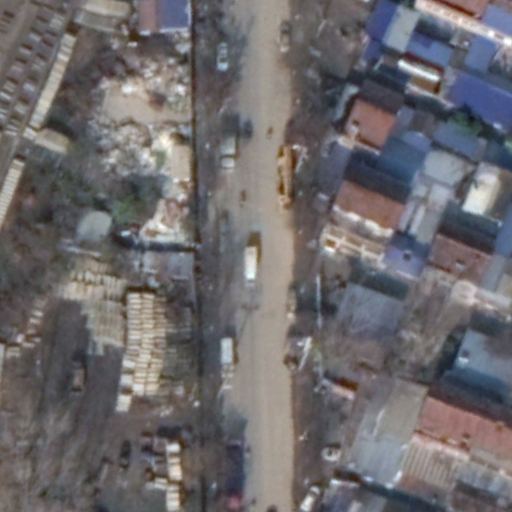msw: (91, 55, 198, 249)
